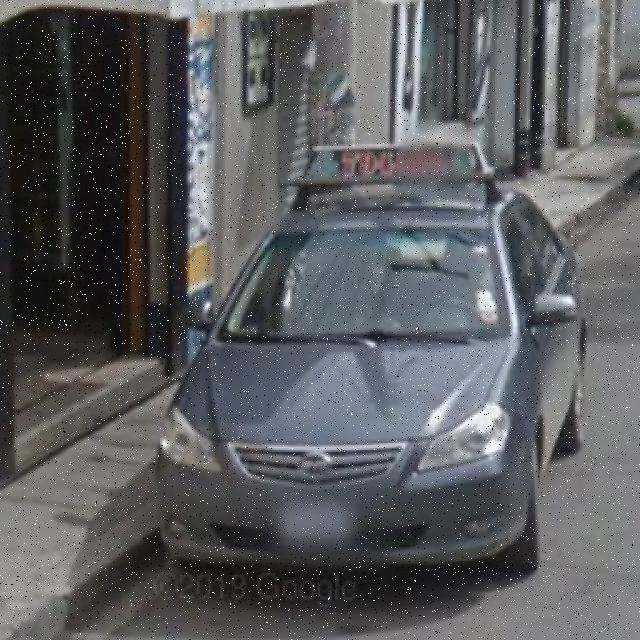cars: (169, 158, 561, 595)
